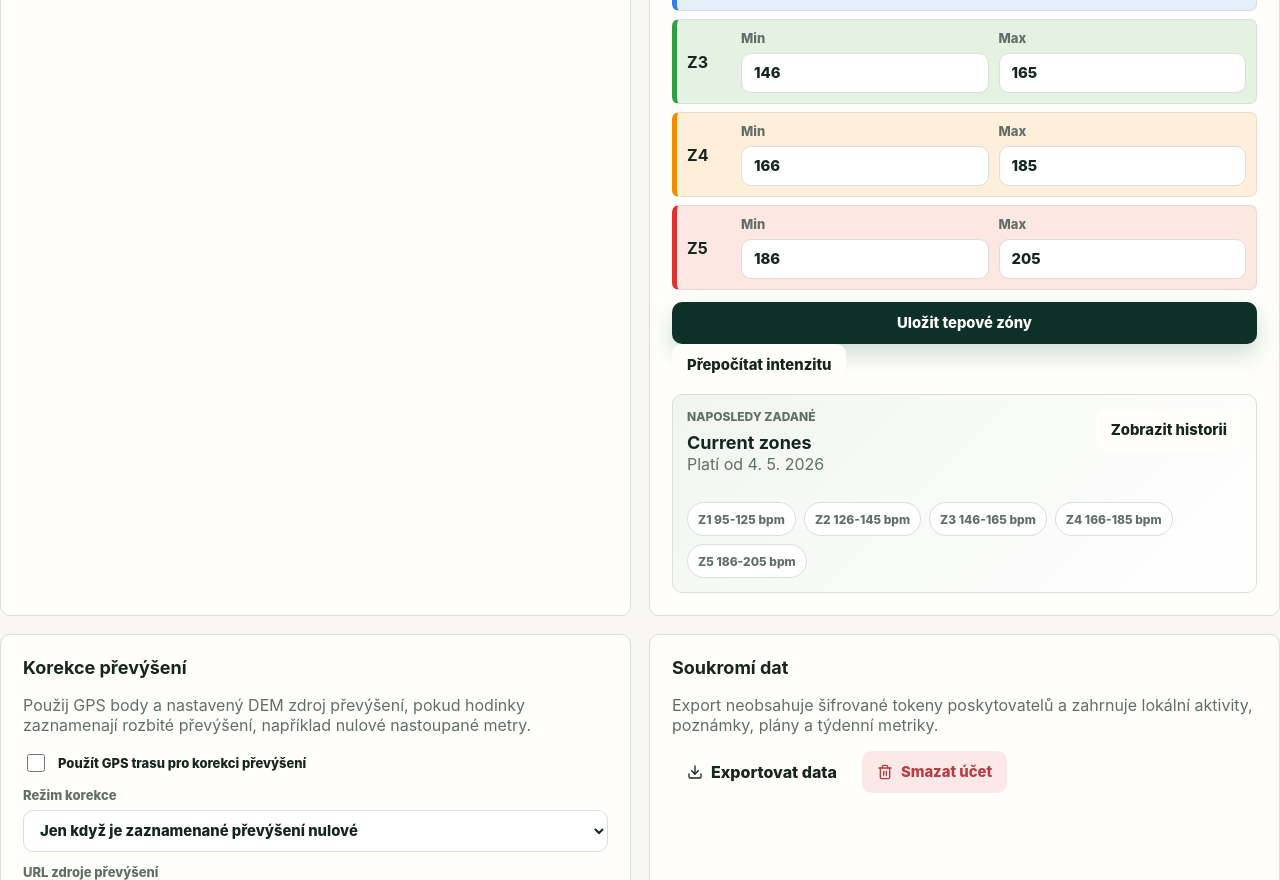
Test case: SettingsPage › shows only the latest HR zones until history modal is opened
(page scrolled)
Expected: the heading "Current zones" is shown, [687,432,824,454]
Expected: the text "Platí od 4. 5. 2026" is shown, [687,454,824,474]
Click the button "Zobrazit historii" at (1169, 430), box [1096,410,1242,452]
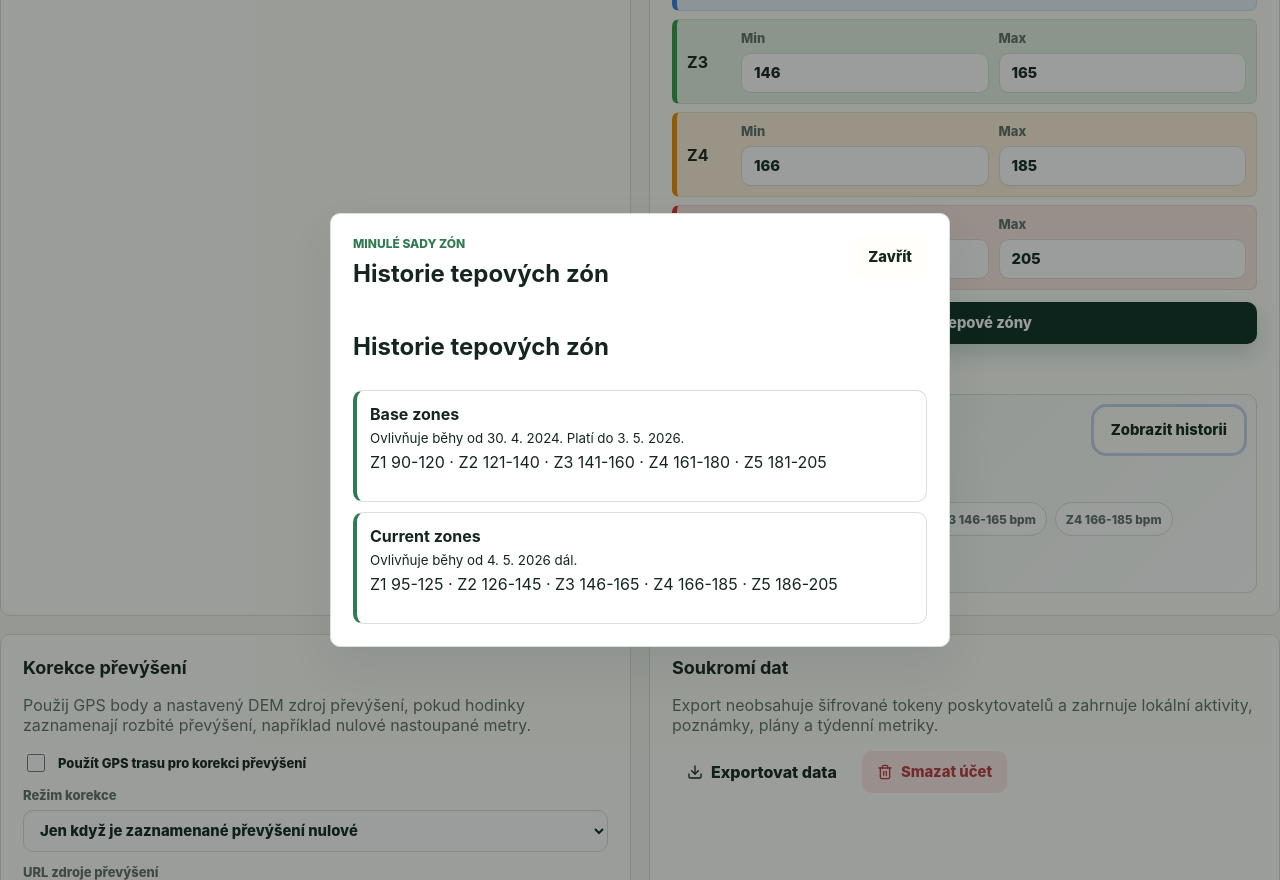
Now the heading "Historie tepových zón" below "Minulé sady zón" is shown, box [353,258,609,288]
Now the text "Base zones" is shown, box [370,404,459,424]
Now the text "Current zones" is shown, box [370,526,481,546]
